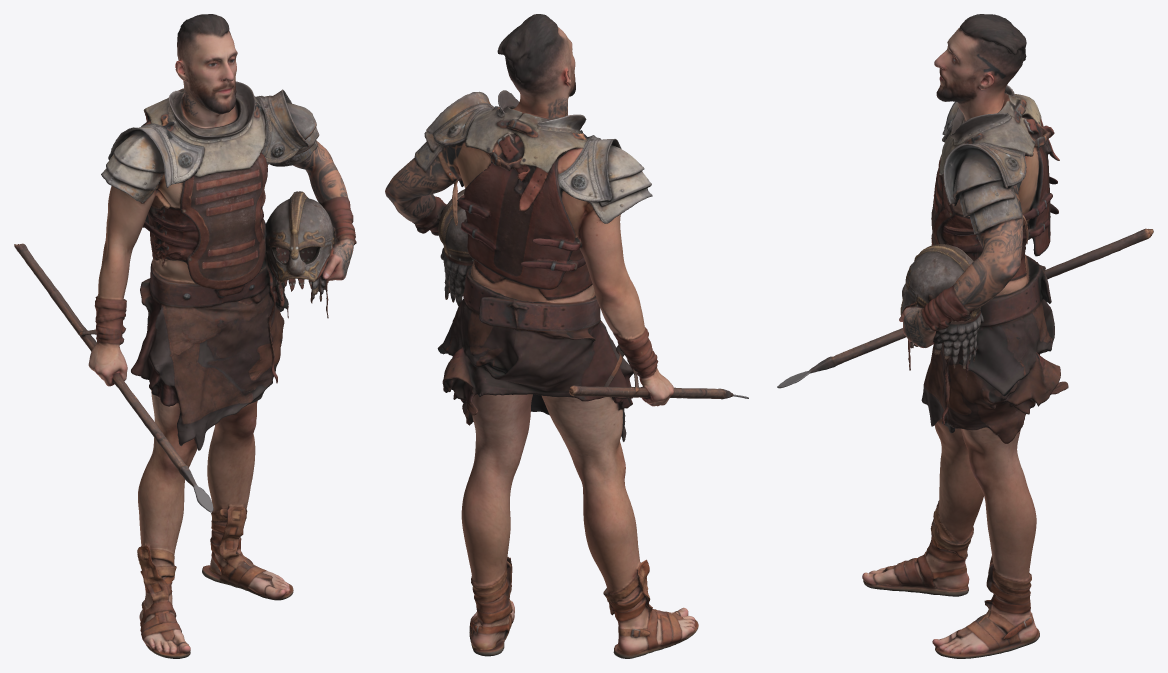
Rendered from Gladiator.glb.
The picture shows the model from 3 angles, left to right: view 1: azimuth 30°, elevation 25°; view 2: azimuth 150°, elevation 25°; view 3: azimuth 270°, elevation 25°; orthographic projection. The views are drawn at different scales.
Visible parts, largest first — view 1: Group11962.001; view 2: Group11962.001; view 3: Group11962.001.
Boxes of the visible parts, x1=… form: Group11962.001: x1=14, y1=14, x2=356, y2=658; Group11962.001: x1=385, y1=14, x2=748, y2=658; Group11962.001: x1=777, y1=14, x2=1153, y2=658.
Bounding box in the file's own units: 0.8123 × 1.81 × 1.01.
1 material, 1 textured.
